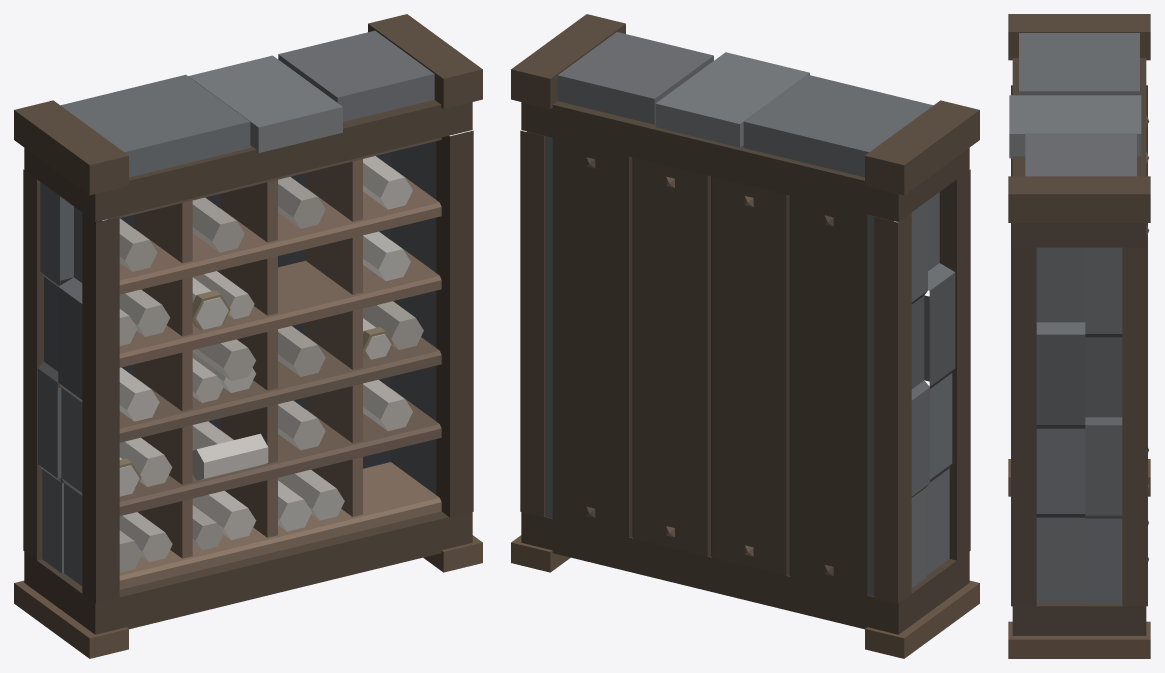
File: scroll-rack-f465dd.glb
3 renders of one model, left to right at view 1: azimuth 30°, elevation 25°; view 2: azimuth 150°, elevation 25°; view 3: azimuth 270°, elevation 25°, orthographic. The views are drawn at different scales.
Visible parts, largest first — view 1: rack, scroll-pick-mesh; view 2: rack; view 3: rack.
Boxes of the visible parts, x1,y1,x2,y2 form: rack: (14, 14, 482, 658); scroll-pick-mesh: (192, 339, 255, 380); rack: (511, 14, 979, 658); rack: (1008, 14, 1150, 658).
Bounding box in the file's own units: 1.5 × 1.8 × 0.5.
